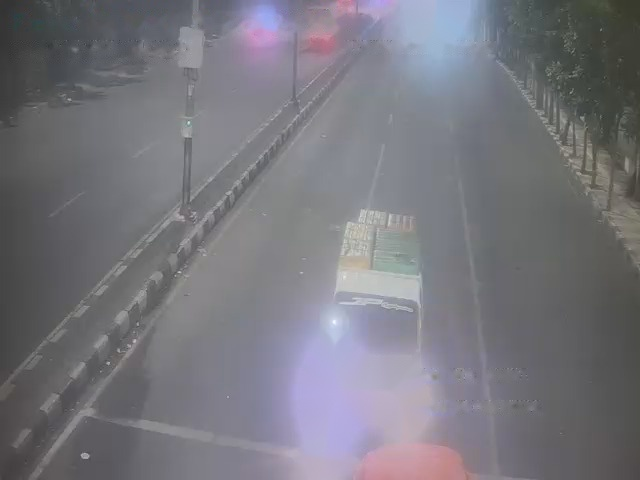Mobil: (327, 222, 438, 409)
